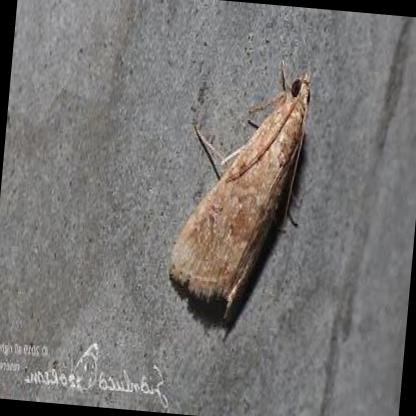Hellula undalis: (163, 50, 330, 346)
